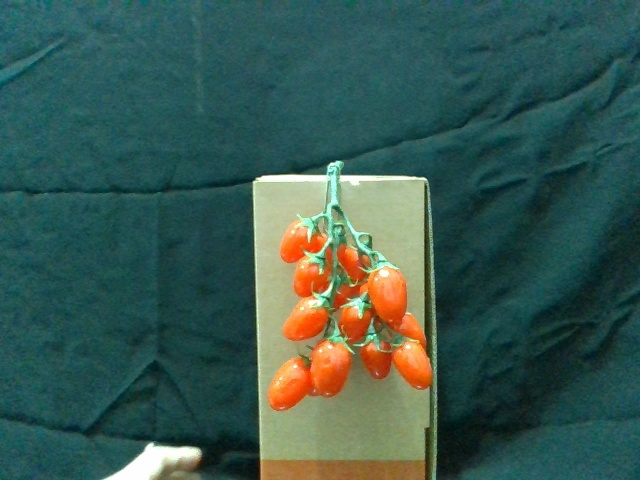tomato: (367, 260, 410, 325), (268, 356, 314, 412), (310, 335, 352, 396), (393, 337, 433, 392), (284, 294, 329, 341), (280, 217, 322, 261), (337, 294, 371, 340), (362, 331, 393, 381), (294, 249, 328, 294)
